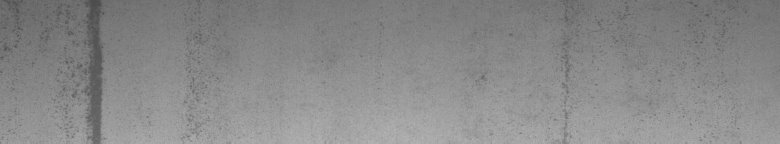hd: (4, 4, 110, 136)
